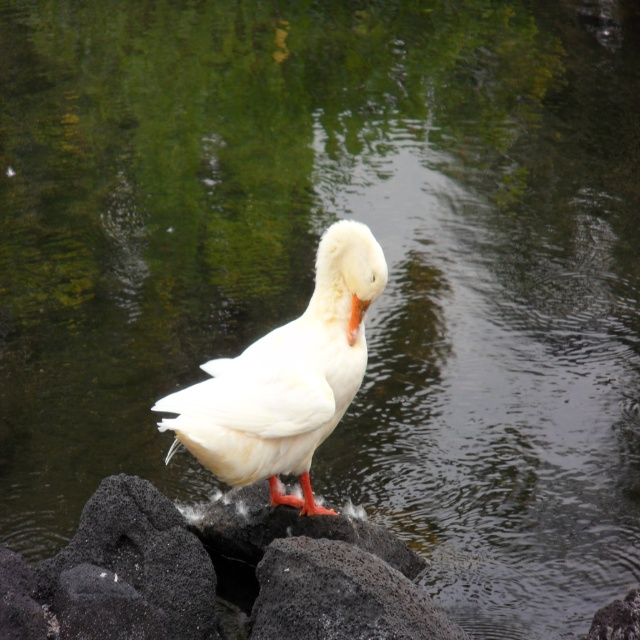Duck: (154, 216, 386, 517)
